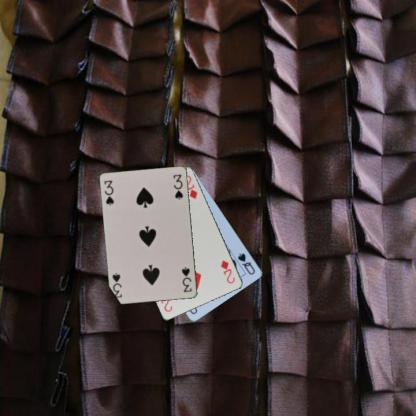2d: (218, 258, 236, 285)
3s: (179, 264, 193, 294), (102, 178, 115, 207)
Qs: (235, 251, 257, 276)
